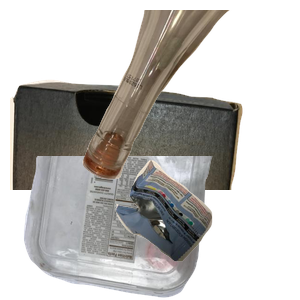cardboard: (10, 77, 245, 257)
glass: (80, 10, 300, 182)
plastic: (21, 156, 226, 300)
trash: (113, 157, 300, 300)
